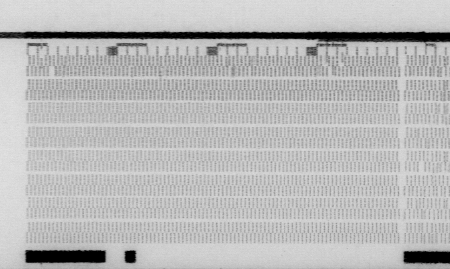Broken hole: (417, 160, 428, 173), (46, 66, 58, 77)
Oblique printing: (409, 196, 450, 234), (320, 54, 350, 79), (219, 55, 238, 79), (438, 149, 450, 173), (438, 56, 450, 78), (434, 102, 449, 115), (36, 54, 48, 70)
